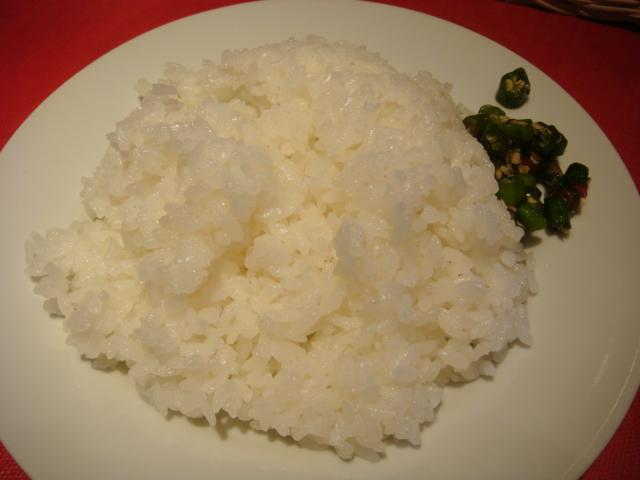rice: (26, 38, 538, 460)
